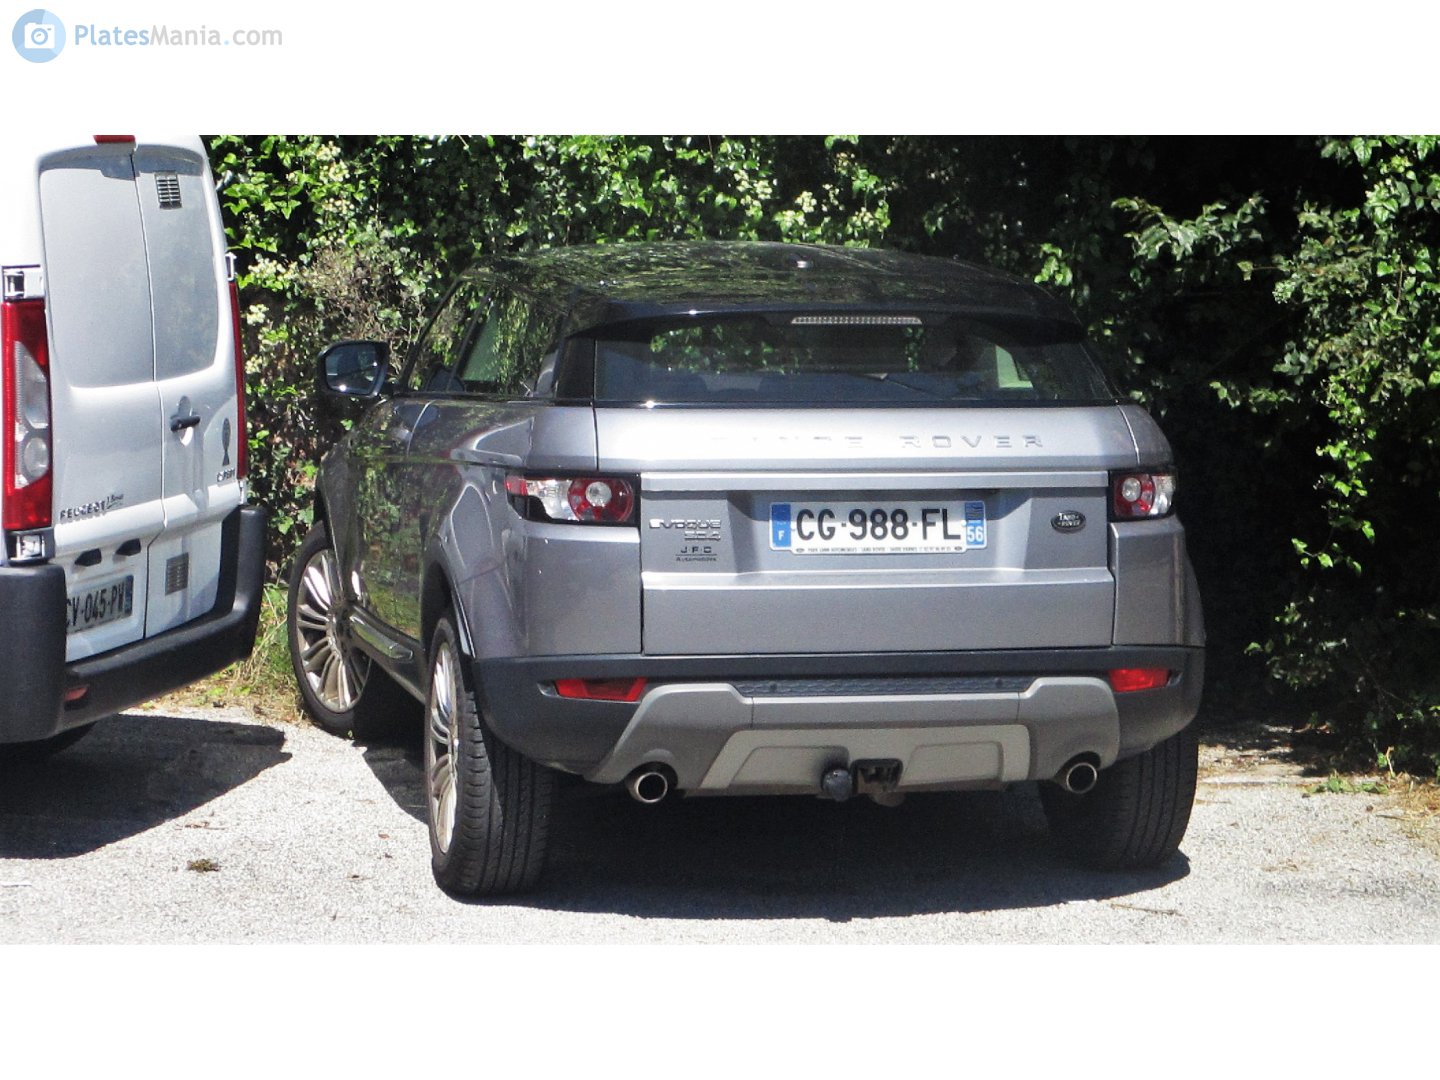licence plate: (759, 495, 994, 559)
